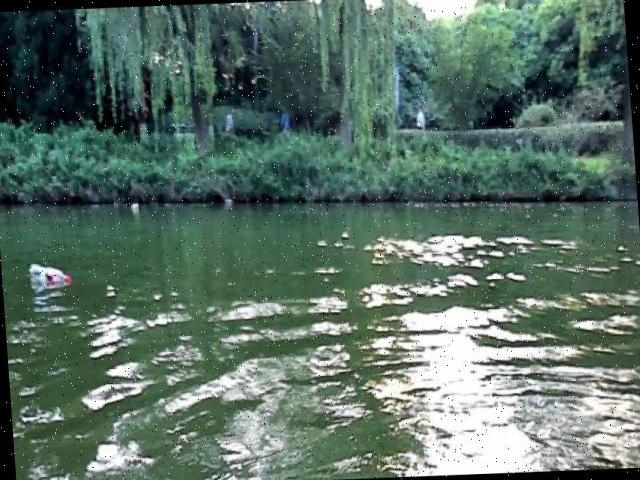Bottle: (30, 264, 75, 292)
